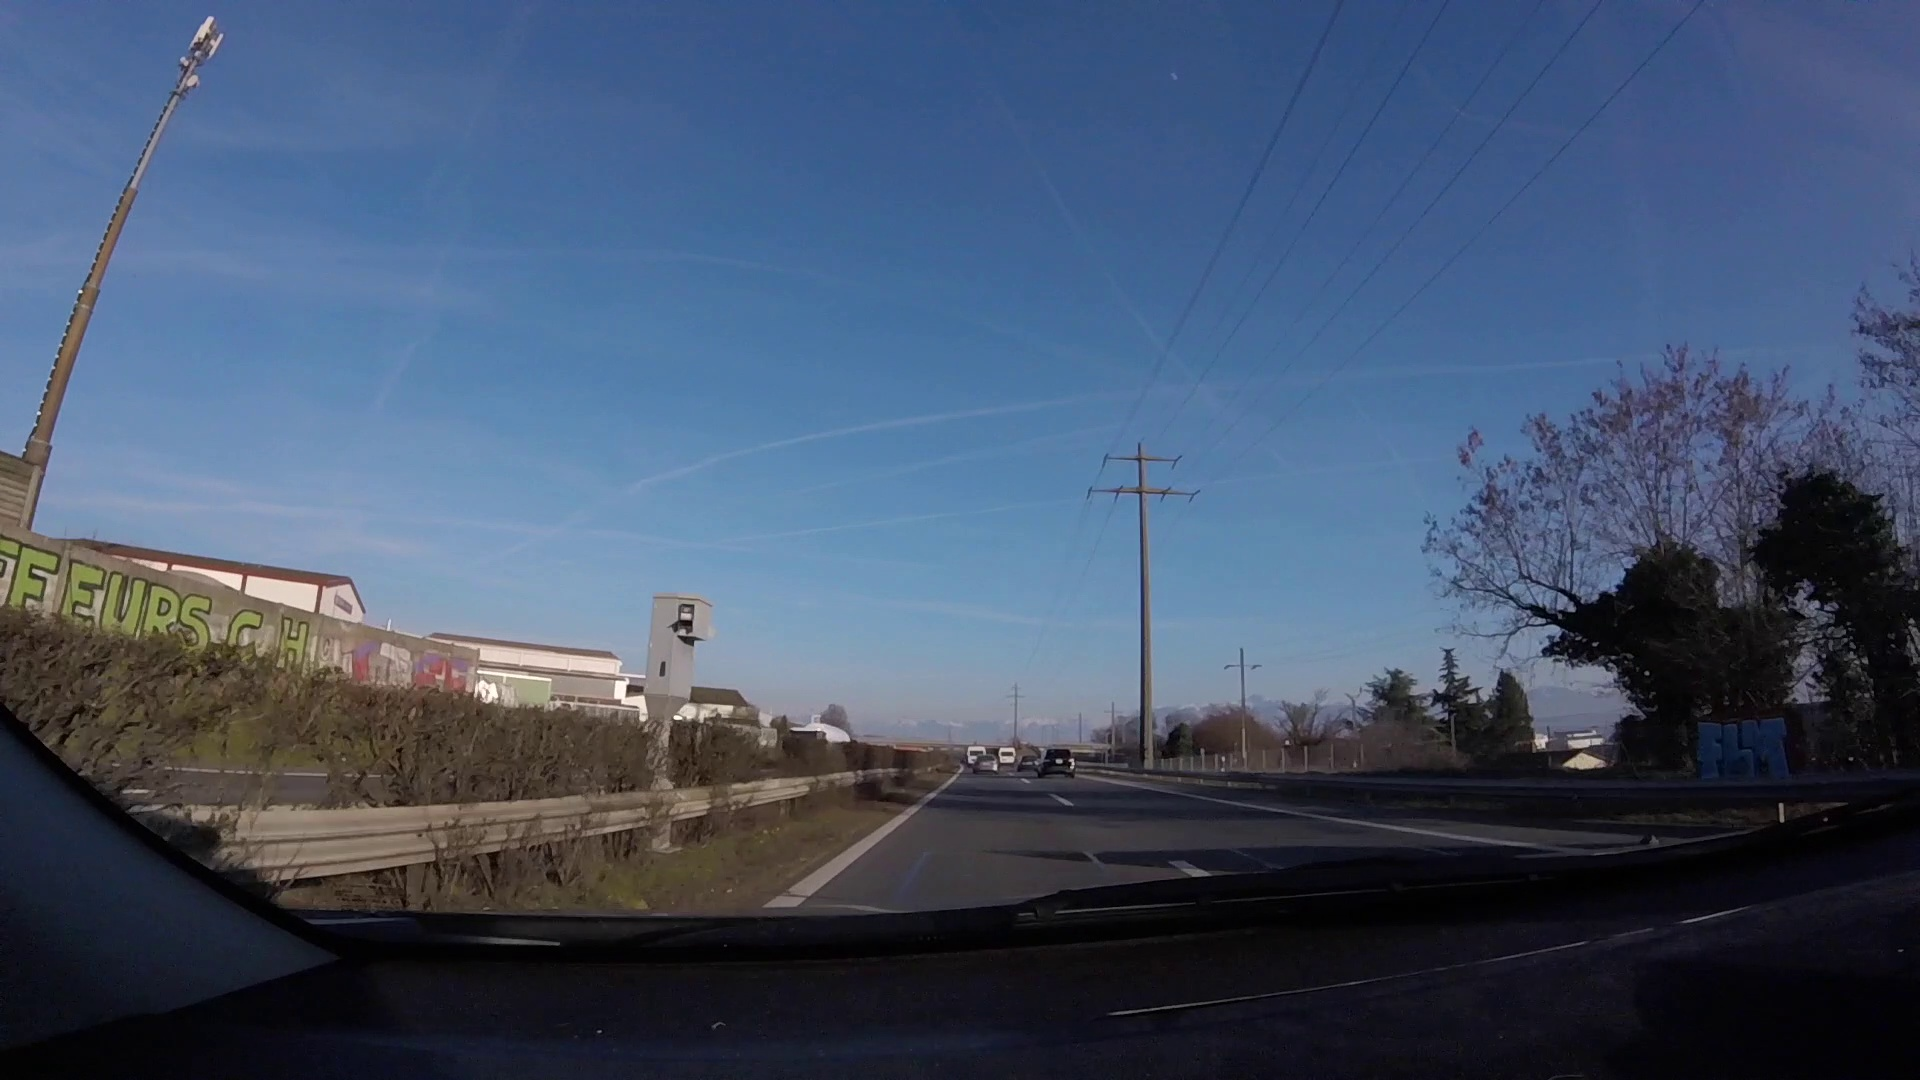radar: (642, 589, 719, 738)
